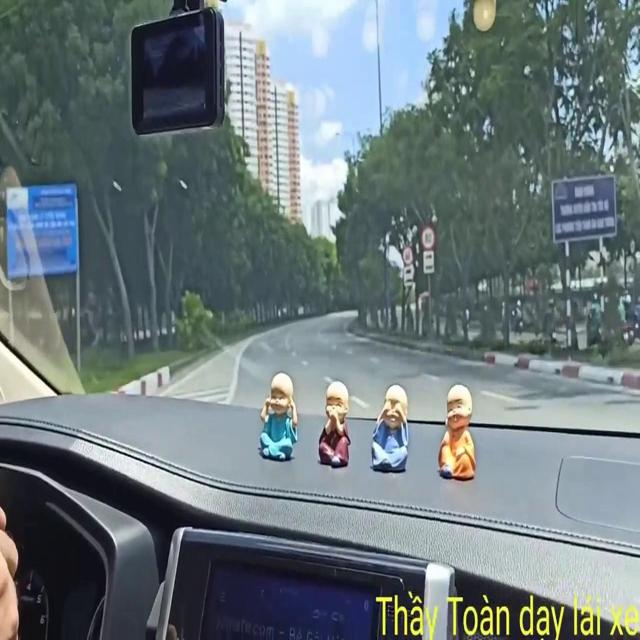Biển phụ: (418, 249, 437, 273), (402, 266, 414, 285)
Giới hạn tốc độ: 60Km/h: (400, 243, 414, 265)
Giới hạn tốc độ: 80Km/h: (415, 220, 438, 252)
Khác: (2, 178, 79, 277), (545, 167, 612, 237)
